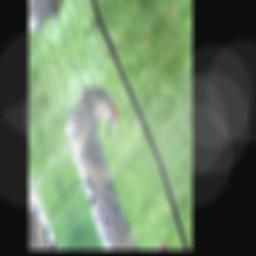Woodpecker: (74, 61, 121, 152)
